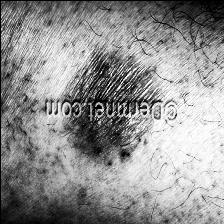Non-Cancerous Skin Condition: (60, 66, 160, 160)
